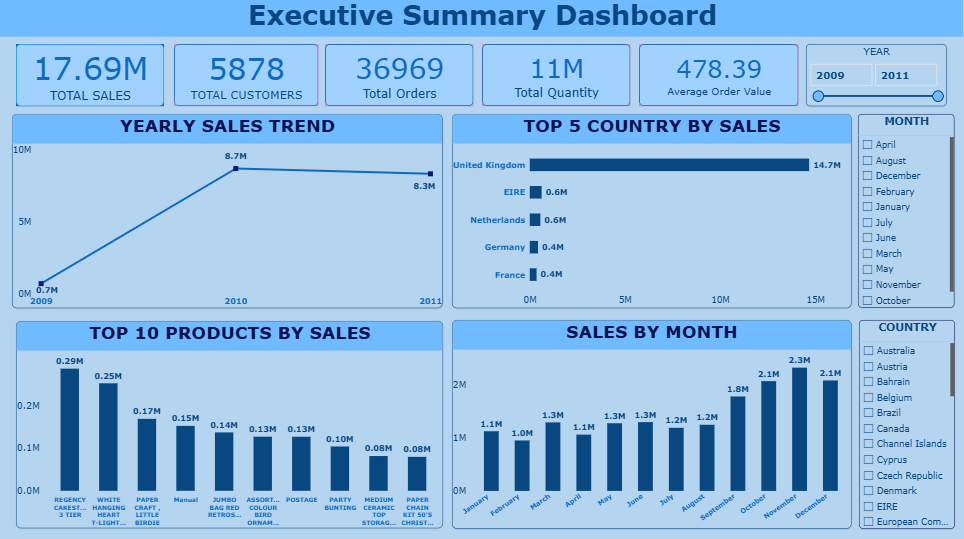

Layout of this report page (visuals, bound fields, positions):
{"tool":"powerbi","page":{"name":" Executive Summary Dashboard","canvas":[1920,1080],"ordinal":0},"visuals":[{"type":"cardVisual","title":"TOTAL SALES","fields":{"Data":["CLEANED.Sales"]},"box":[31.1,91.1,295.6,124.4],"z":0},{"type":"cardVisual","title":"TOTAL CUSTOMER","fields":{"Data":["Count(CLEANED.Customer ID)"]},"box":[346,92,288,124],"z":1000},{"type":"textbox","box":[0,0,1919.1,76.6],"z":2000},{"type":"cardVisual","title":"TOTAL CUSTOMER","fields":{"Data":["CLEANED.Total Orders"]},"box":[648,92,296,124],"z":3000},{"type":"cardVisual","title":"TOTAL CUSTOMER","fields":{"Data":["CLEANED.Total Quantity"]},"box":[960,92,296,124],"z":4000},{"type":"cardVisual","title":"TOTAL CUSTOMER","fields":{"Data":["CLEANED.Average Order Value"]},"box":[1274,92,318,124],"z":5000},{"type":"lineChart","title":"YEARLY SALES TREND","fields":{"Category":["CLEANED.DATE.Variation.Date Hierarchy.Year"],"Y":["Sum(CLEANED.TOTAL SALES)"]},"box":[24.4,231.1,857.8,386.7],"z":6000},{"type":"clusteredBarChart","title":"TOP 5 COUNTRY BY SALES","fields":{"Category":["CLEANED.Country"],"Y":["Sum(CLEANED.TOTAL SALES)"]},"box":[900,231.1,795.6,386.7],"z":7000},{"type":"clusteredColumnChart","title":"TOP 10 PRODUCTS BY SALES","fields":{"Category":["CLEANED.Description"],"Y":["Sum(CLEANED.TOTAL SALES)"]},"box":[31.1,644.4,851.1,413.3],"z":8000},{"type":"clusteredColumnChart","title":"SALES BY MONTH","fields":{"Category":["CLEANED.DATE.Variation.Date Hierarchy.Month"],"Y":["Sum(CLEANED.TOTAL SALES)"]},"box":[900,642.2,795.6,415.6],"z":9000},{"type":"slicer","title":"YEAR","fields":{"Values":["CLEANED.YEAR"]},"box":[1606,92,280,124],"z":10000},{"type":"slicer","title":"MONTH","fields":{"Values":["CLEANED.MONTH"]},"box":[1710.6,231.9,192,386],"z":11000},{"type":"slicer","title":"COUNTRY","fields":{"Values":["CLEANED.Country"]},"box":[1711.1,642.2,191.1,415.6],"z":12000}]}

Visuals, with their boxes in screenshot pixels (x1, y1, x2, y2), scaled from the page's 1920x1080 canvas onto the 964x539 screenshot:
"TOTAL SALES" cardVisual: 16:45:164:108
"TOTAL CUSTOMER" cardVisual: 174:46:318:108
textbox: 0:0:963:38
"TOTAL CUSTOMER" cardVisual: 325:46:474:108
"TOTAL CUSTOMER" cardVisual: 482:46:631:108
"TOTAL CUSTOMER" cardVisual: 640:46:799:108
"YEARLY SALES TREND" lineChart: 12:115:443:308
"TOP 5 COUNTRY BY SALES" clusteredBarChart: 452:115:851:308
"TOP 10 PRODUCTS BY SALES" clusteredColumnChart: 16:322:443:528
"SALES BY MONTH" clusteredColumnChart: 452:321:851:528
"YEAR" slicer: 806:46:947:108
"MONTH" slicer: 859:116:955:308
"COUNTRY" slicer: 859:321:955:528
